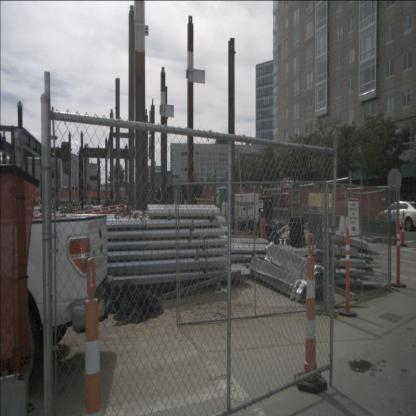cone: (68, 257, 114, 416), (293, 232, 328, 394), (338, 227, 358, 318), (390, 220, 406, 288), (399, 210, 407, 247)
